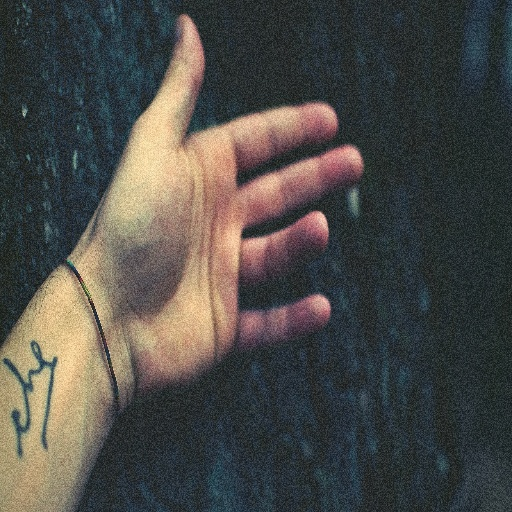hand: (90, 7, 363, 396)
